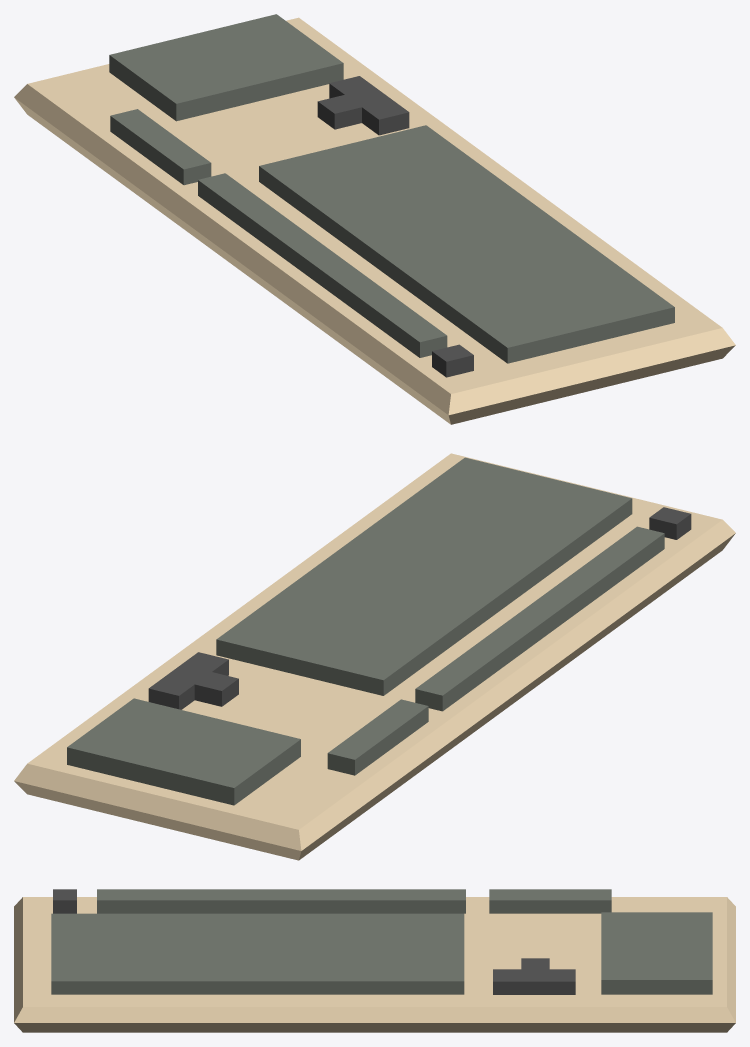
File: keyboardOld.fbx
The picture shows the model from 3 angles, top to bottom: view 1: azimuth 30°, elevation 25°; view 2: azimuth 150°, elevation 25°; view 3: azimuth 270°, elevation 25°; orthographic projection. The views are drawn at different scales.
Visible parts, largest first — view 1: Boody, Main, NumePud, Top, Top.002, Cros, Top.001; view 2: Boody, Main, NumePud, Top, Top.002, Cros, Top.001; view 3: Boody, Main, NumePud, Top, Top.002, Cros, Top.001.
Part boxes in pixels (x1,y1,x2,y2): Boody: (14,17,735,424); Main: (259,125,674,363); NumePud: (109,14,343,121); Top: (198,173,447,357); Top.002: (110,109,211,185); Cros: (317,76,409,135); Top.001: (432,344,473,377); Boody: (14,453,735,860); Main: (216,457,632,695); NumePud: (67,698,300,805); Top: (415,526,664,711); Top.002: (327,699,428,775); Cros: (148,652,238,709); Top.001: (649,507,691,539); Boody: (14,897,735,1032); Main: (51,913,464,994); NumePud: (601,912,712,994); Top: (97,889,465,913); Top.002: (489,889,611,913); Cros: (493,958,575,994); Top.001: (53,889,76,913).
Size of the model in its own units: 78.3 by 12.55 by 205.
